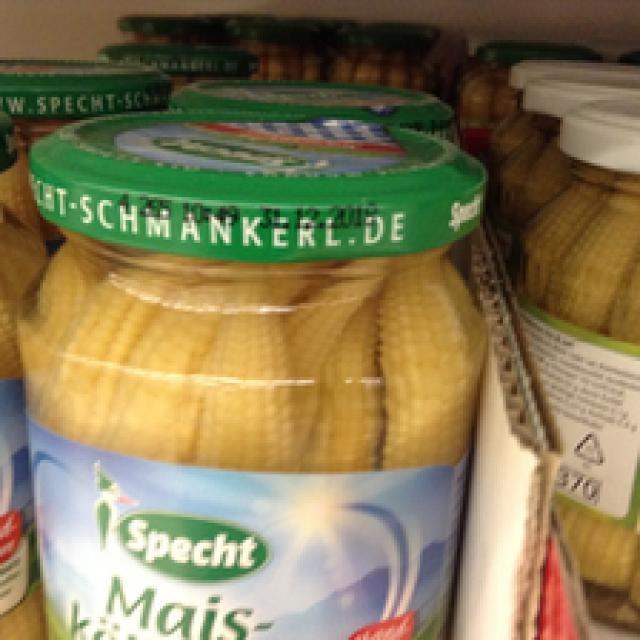groceries: (8, 103, 483, 637)
